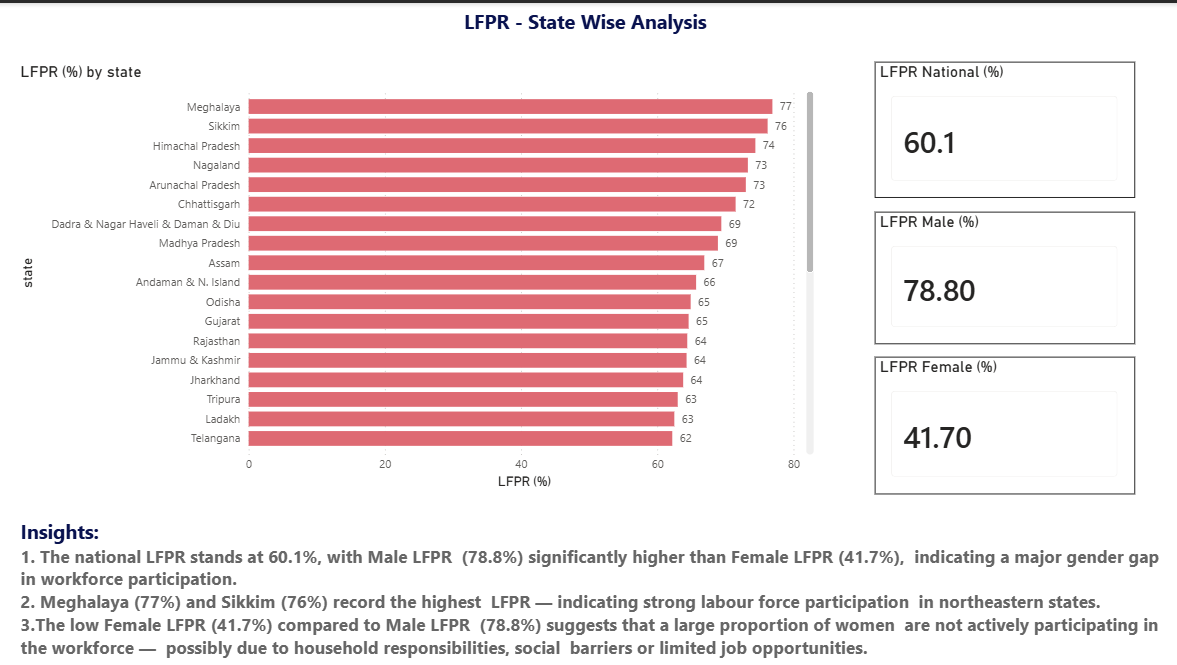

What the dashboard file says about the page in this screenshot:
{"tool":"powerbi","page":{"name":"LFPR Analysis","canvas":[1280,720],"ordinal":4},"visuals":[{"type":"textbox","box":[0,0,1280.3,46.7],"z":0},{"type":"barChart","fields":{"Category":["state_data.state"],"Y":["state_data.LFPR_Person"]},"box":[21.6,63.5,867.9,467.8],"z":1000},{"type":"textbox","box":[21.6,551.6,1258.6,169],"z":2000},{"type":"cardVisual","title":"LFPR National (%)","fields":{"Data":["national_data.LFPR_National"]},"box":[950.4,63.5,281.2,147.4],"z":3000},{"type":"cardVisual","title":"LFPR Male (%)","fields":{"Data":["national_data.LFPR_National_Male"]},"box":[950.4,225.8,281.2,143.3],"z":4000},{"type":"cardVisual","title":"LFPR Female (%)","fields":{"Data":["national_data.LFPR_National_Female"]},"box":[950.4,382.6,281.2,148.7],"z":5000}]}

Visuals, with their boxes in screenshot pixels (x1, y1, x2, y2), scaled from the page's 1280x720 canvas onto the 1177x665 screenshot:
textbox: crop(0, 0, 1176, 43)
barChart - state_data.state x state_data.LFPR_Person: crop(20, 59, 818, 491)
textbox: crop(20, 509, 1176, 664)
"LFPR National (%)" cardVisual: crop(874, 59, 1132, 195)
"LFPR Male (%)" cardVisual: crop(874, 209, 1132, 341)
"LFPR Female (%)" cardVisual: crop(874, 353, 1132, 491)
